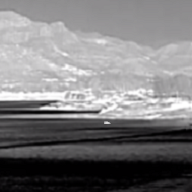Target: (103, 121, 111, 125)
